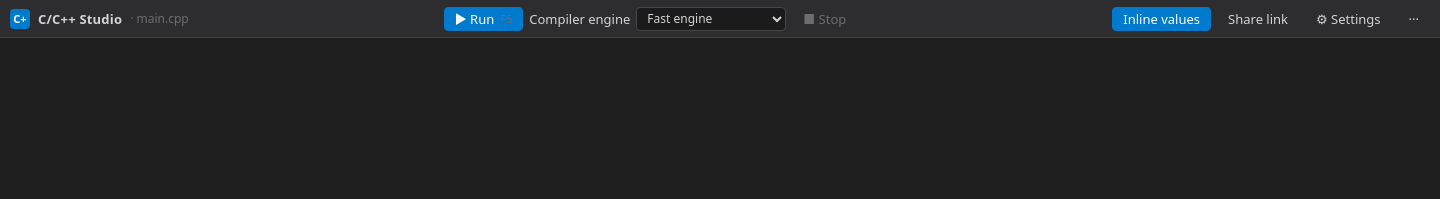
it: UnifiedHeader › toggles overflow action menu and handles actions
expect the text "Clear console" is not shown: met
Click the button "···": (1414, 18) [1398, 6, 1430, 30]
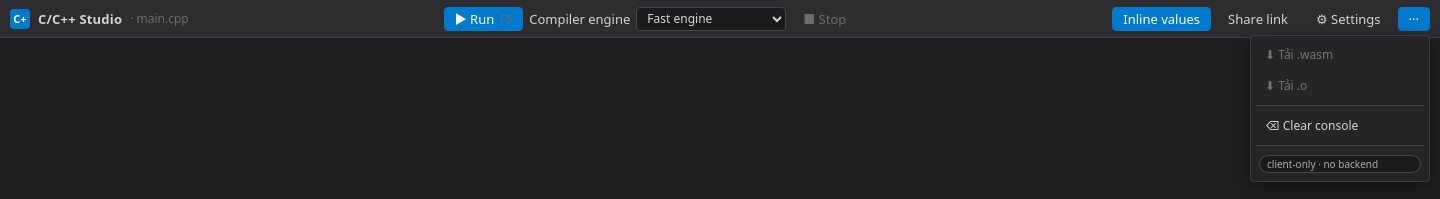
expect the button "⌫ Clear console" is shown: met
Click the button "⌫ Clear console": (1340, 125) [1255, 110, 1425, 140]
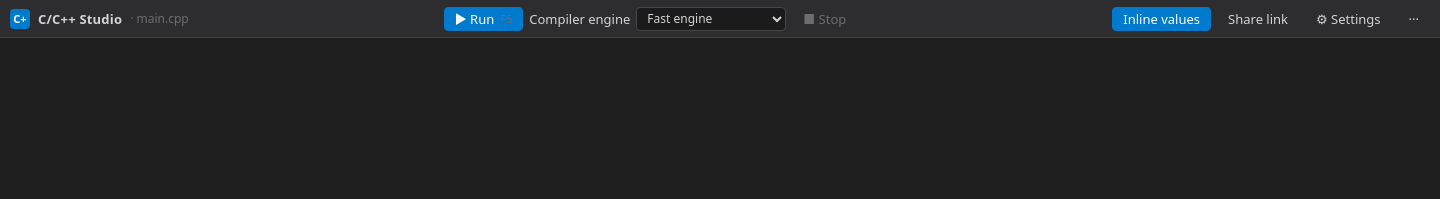
expect the button "Clear console" is gone: met
